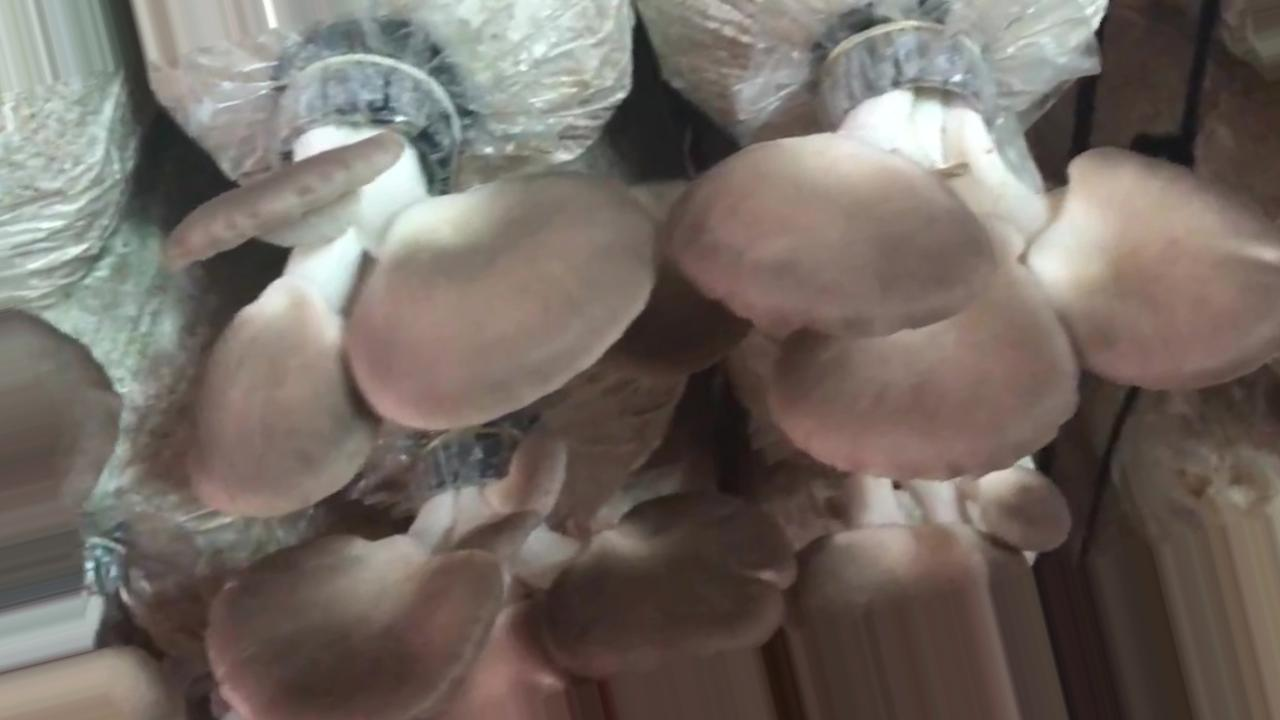nam: (676, 1, 1278, 478), (167, 39, 656, 513), (209, 423, 798, 720), (783, 467, 1080, 720), (1, 313, 117, 526)
